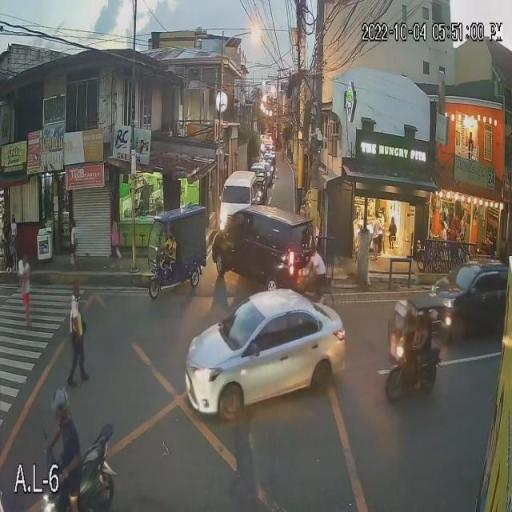helmet: (40, 377, 75, 418)
motorcycle: (31, 416, 122, 512)
rider: (42, 416, 89, 511)
